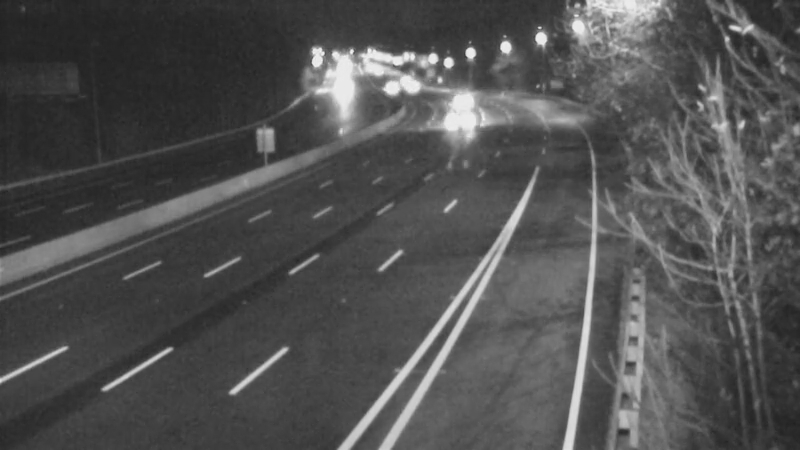vehicle: (377, 59, 427, 109), (385, 61, 435, 111), (365, 63, 415, 113), (436, 79, 486, 129), (436, 95, 486, 145), (320, 68, 370, 118)
